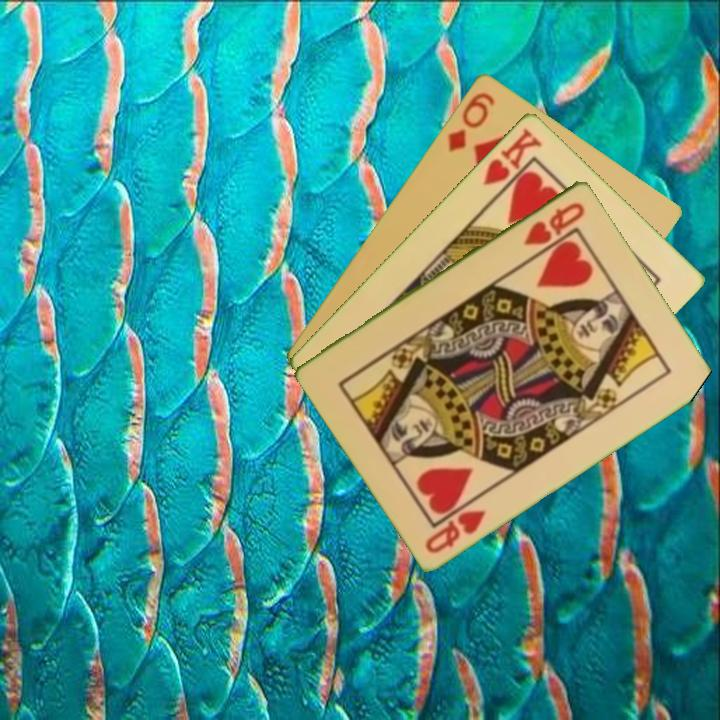6d: (443, 88, 498, 155)
Kh: (479, 124, 545, 201)
Qh: (421, 505, 489, 556), (519, 198, 588, 248)
